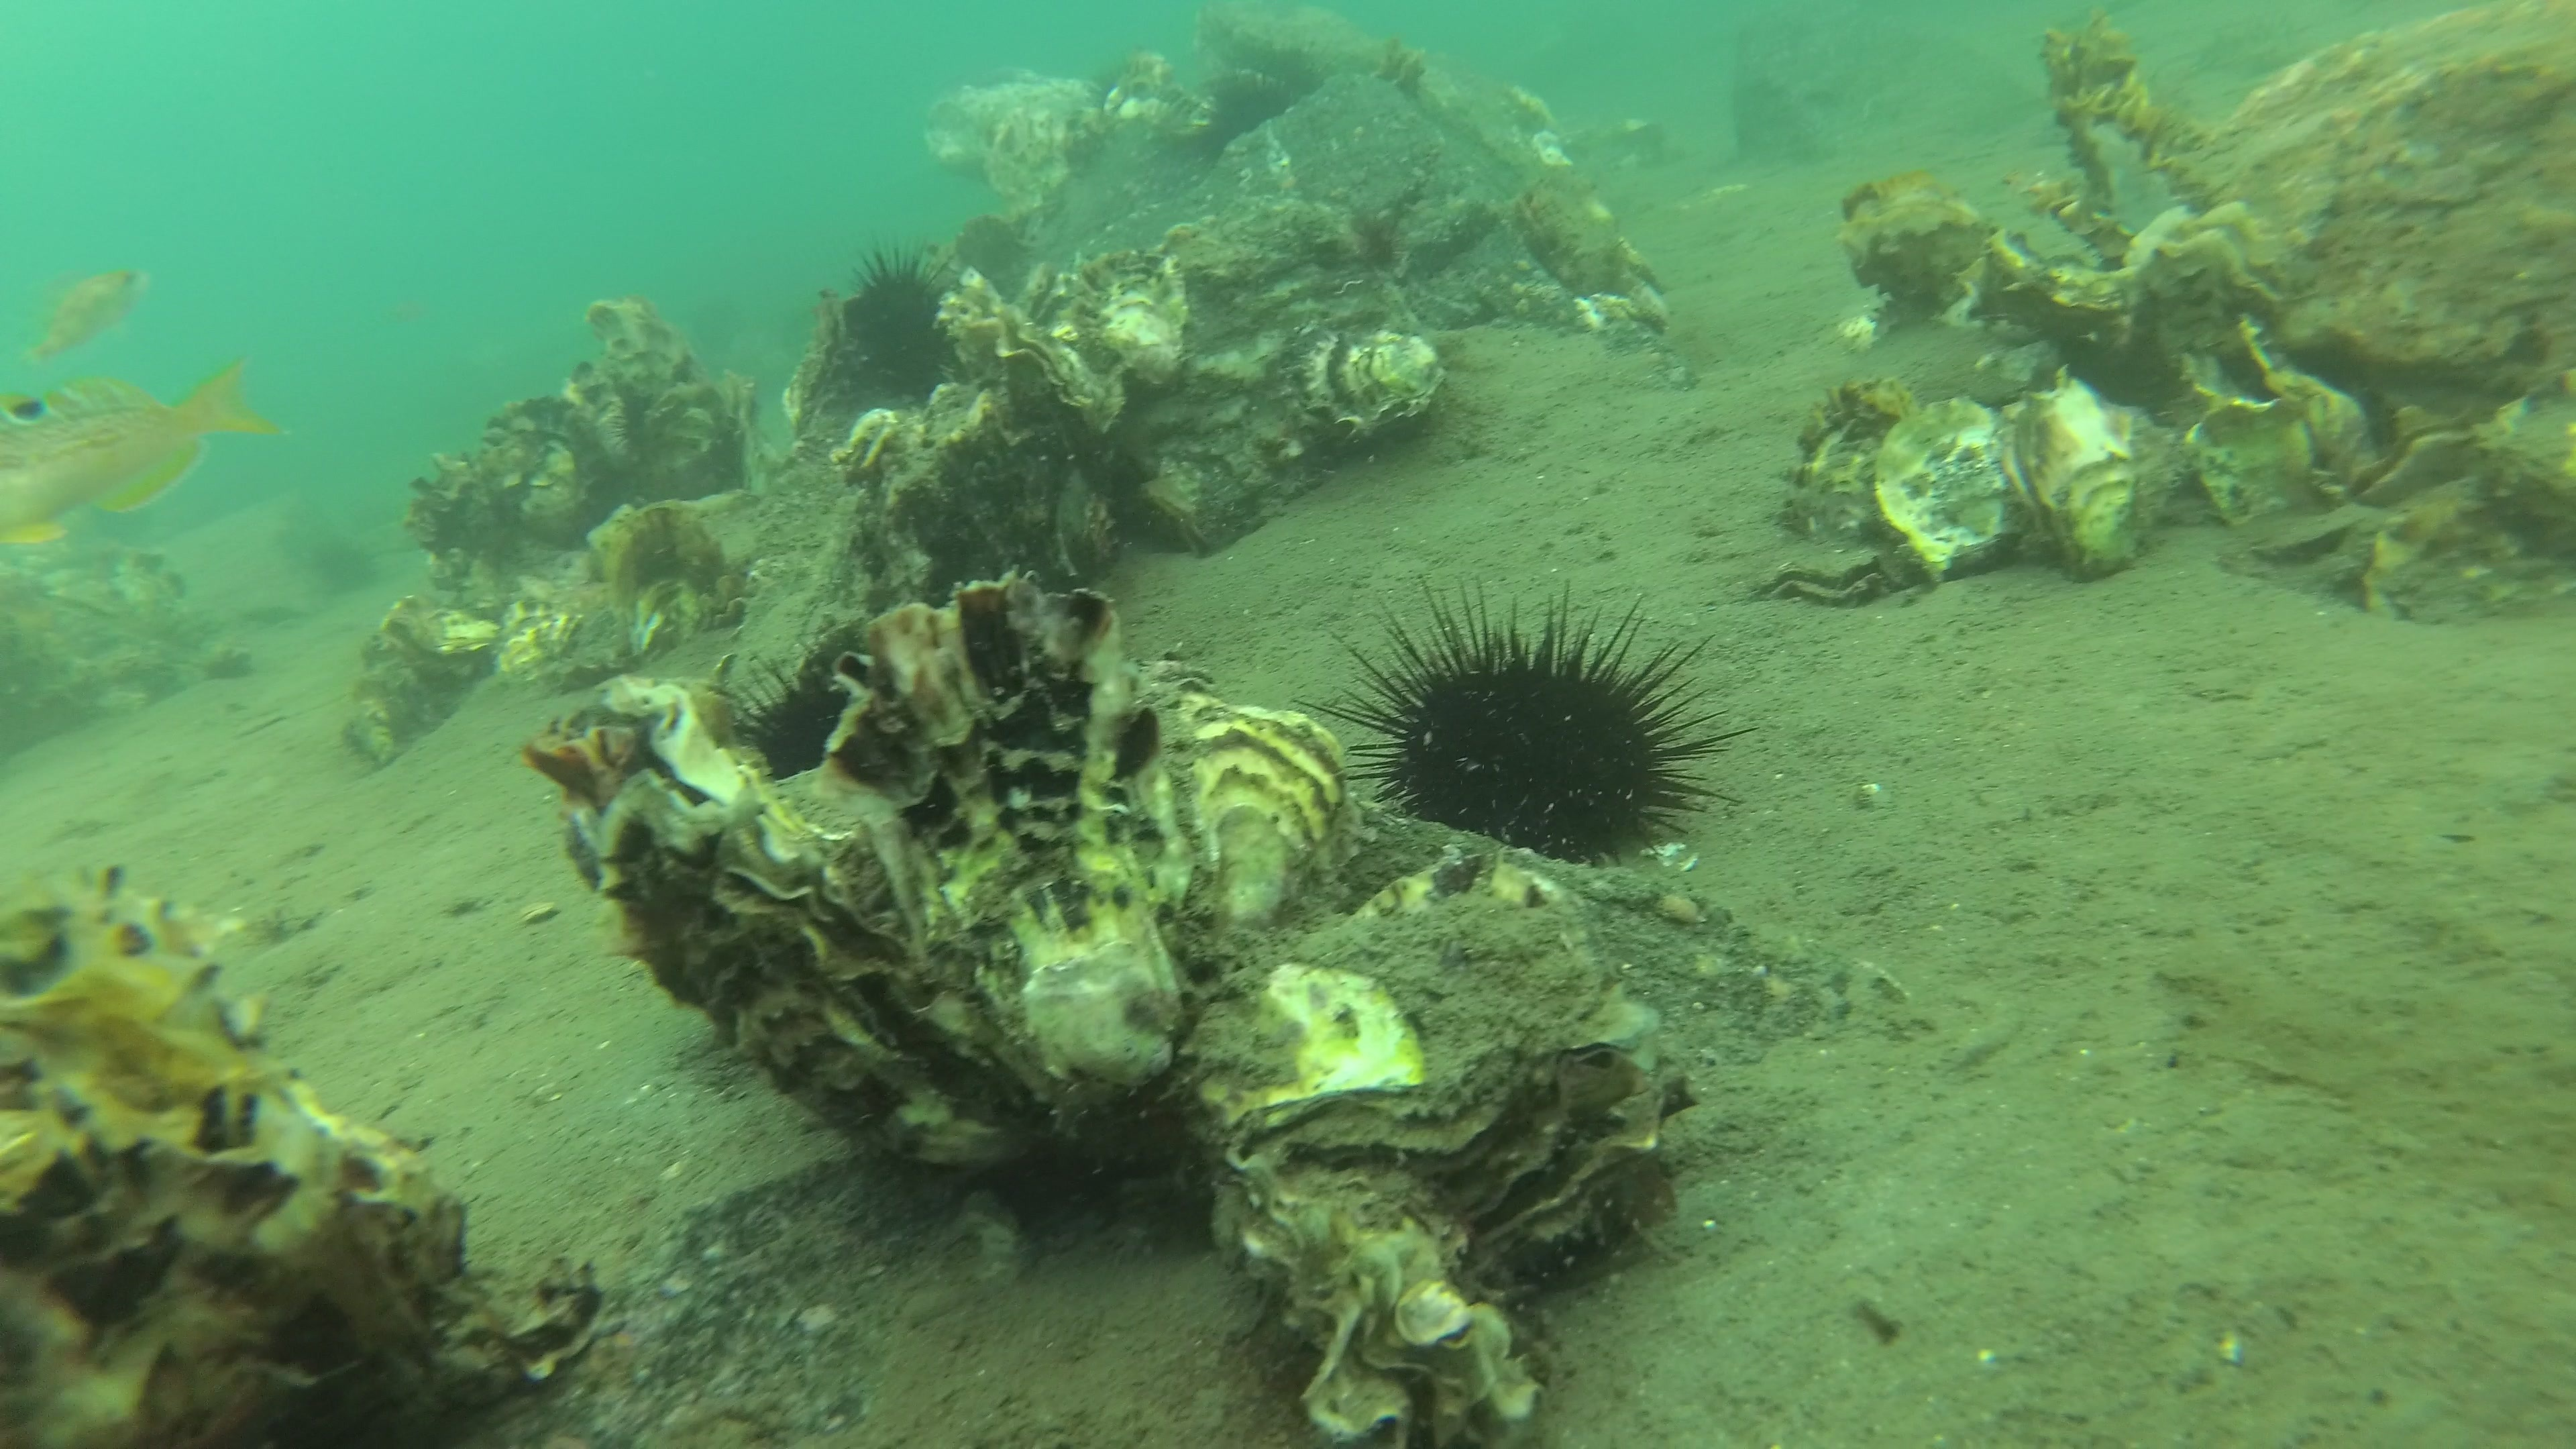echinus: (1288, 566, 1762, 867), (844, 226, 968, 391), (718, 644, 860, 787), (1189, 69, 1299, 170), (1235, 37, 1341, 97), (315, 538, 386, 598)
